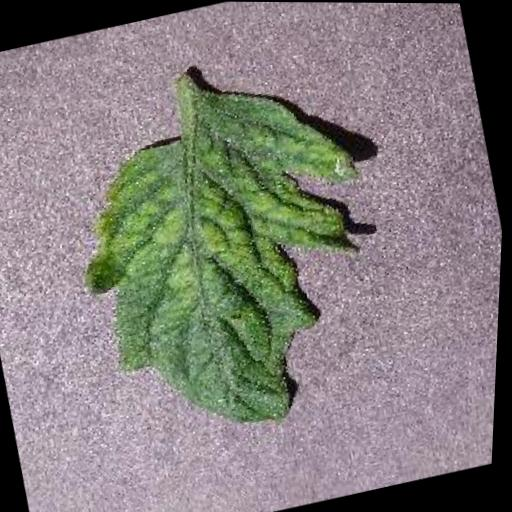Mosaic Virus: (47, 60, 414, 463)
